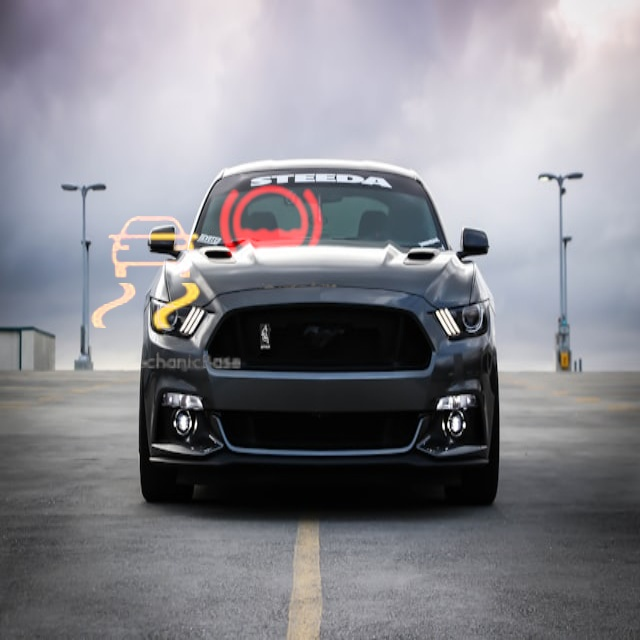symbol: (39, 169, 249, 379), (198, 152, 343, 297)
